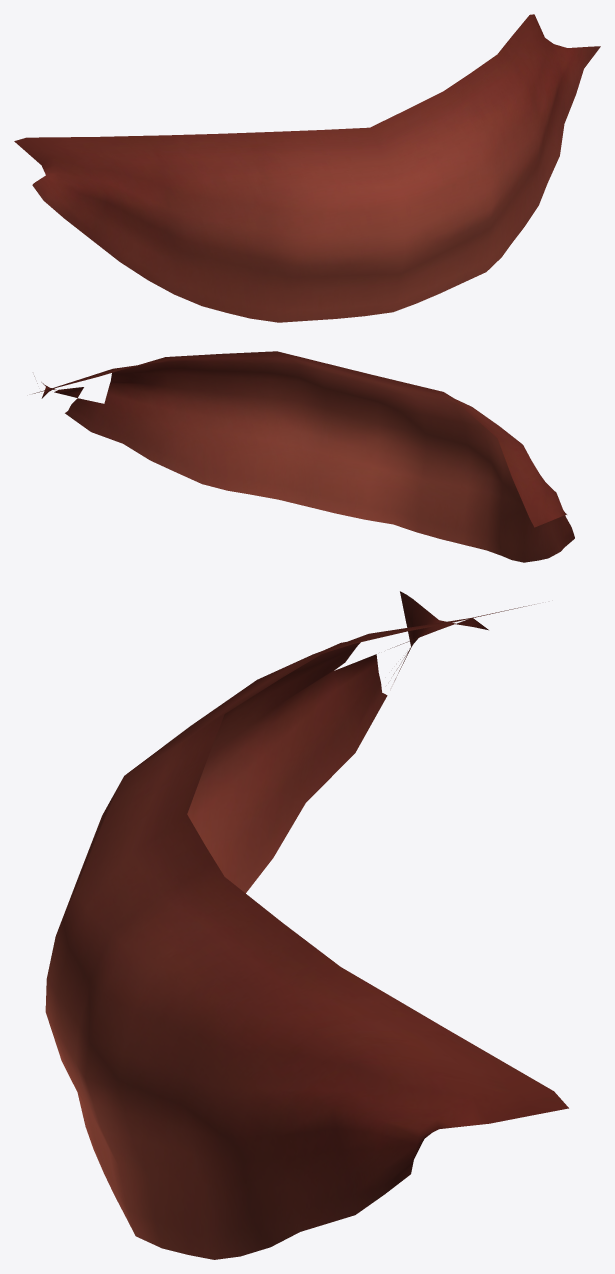
Rendered from BottomLipParts.fbx.
The picture shows the model from 3 angles, top to bottom: view 1: azimuth 30°, elevation 25°; view 2: azimuth 150°, elevation 25°; view 3: azimuth 270°, elevation 25°; orthographic projection. The views are drawn at different scales.
Parts seen in each view (by area): view 1: BottomLips.029, BottomLips.202, BottomLips.101, BottomLips.141, BottomLips.279, BottomLips.278, BottomLips.040, BottomLips.170, BottomLips.207, BottomLips.217, BottomLips.068, BottomLips.106 (+80 smaller); view 2: BottomLips.045, BottomLips.151, BottomLips.152, BottomLips.149, BottomLips.150, BottomLips.147, BottomLips.046, BottomLips.262, BottomLips.079, BottomLips.044, BottomLips.047, BottomLips.043 (+98 smaller); view 3: BottomLips.159, BottomLips.163, BottomLips.157, BottomLips.094, BottomLips.158, BottomLips.184, BottomLips.177, BottomLips.093, BottomLips.162, BottomLips.153, BottomLips.016, BottomLips.156 (+76 smaller).
Boxes of the visible parts, x1,y1,x2,y2 form: BottomLips.029: (260, 156, 298, 183); BottomLips.202: (268, 181, 299, 210); BottomLips.101: (238, 178, 270, 206); BottomLips.141: (249, 131, 291, 156); BottomLips.279: (359, 158, 397, 187); BottomLips.278: (384, 147, 417, 187); BottomLips.040: (346, 127, 383, 157); BottomLips.170: (403, 137, 436, 175); BottomLips.207: (229, 156, 268, 180); BottomLips.217: (335, 158, 371, 186); BottomLips.068: (270, 207, 299, 235); BottomLips.106: (220, 132, 259, 156); BottomLips.045: (282, 464, 313, 492); BottomLips.151: (255, 458, 285, 485); BottomLips.152: (204, 447, 232, 476); BottomLips.149: (310, 471, 341, 499); BottomLips.150: (230, 453, 258, 480); BottomLips.147: (339, 478, 369, 505); BottomLips.046: (285, 444, 319, 470); BottomLips.262: (313, 452, 346, 478); BottomLips.079: (341, 459, 373, 485); BottomLips.044: (367, 486, 396, 511); BottomLips.047: (176, 441, 206, 468); BottomLips.043: (369, 467, 400, 492); BottomLips.159: (124, 907, 205, 962); BottomLips.163: (175, 877, 253, 929); BottomLips.157: (158, 930, 236, 980); BottomLips.094: (206, 900, 282, 951); BottomLips.158: (102, 945, 157, 1008); BottomLips.184: (353, 997, 444, 1039); BottomLips.177: (279, 1056, 356, 1090); BottomLips.093: (135, 963, 190, 1022); BottomLips.162: (237, 923, 311, 970); BottomLips.153: (168, 981, 223, 1036); BottomLips.016: (407, 1028, 498, 1067); BottomLips.156: (191, 952, 267, 996).
Bounding box in the file's own units: 0.0361 × 0.0107 × 0.0144.
